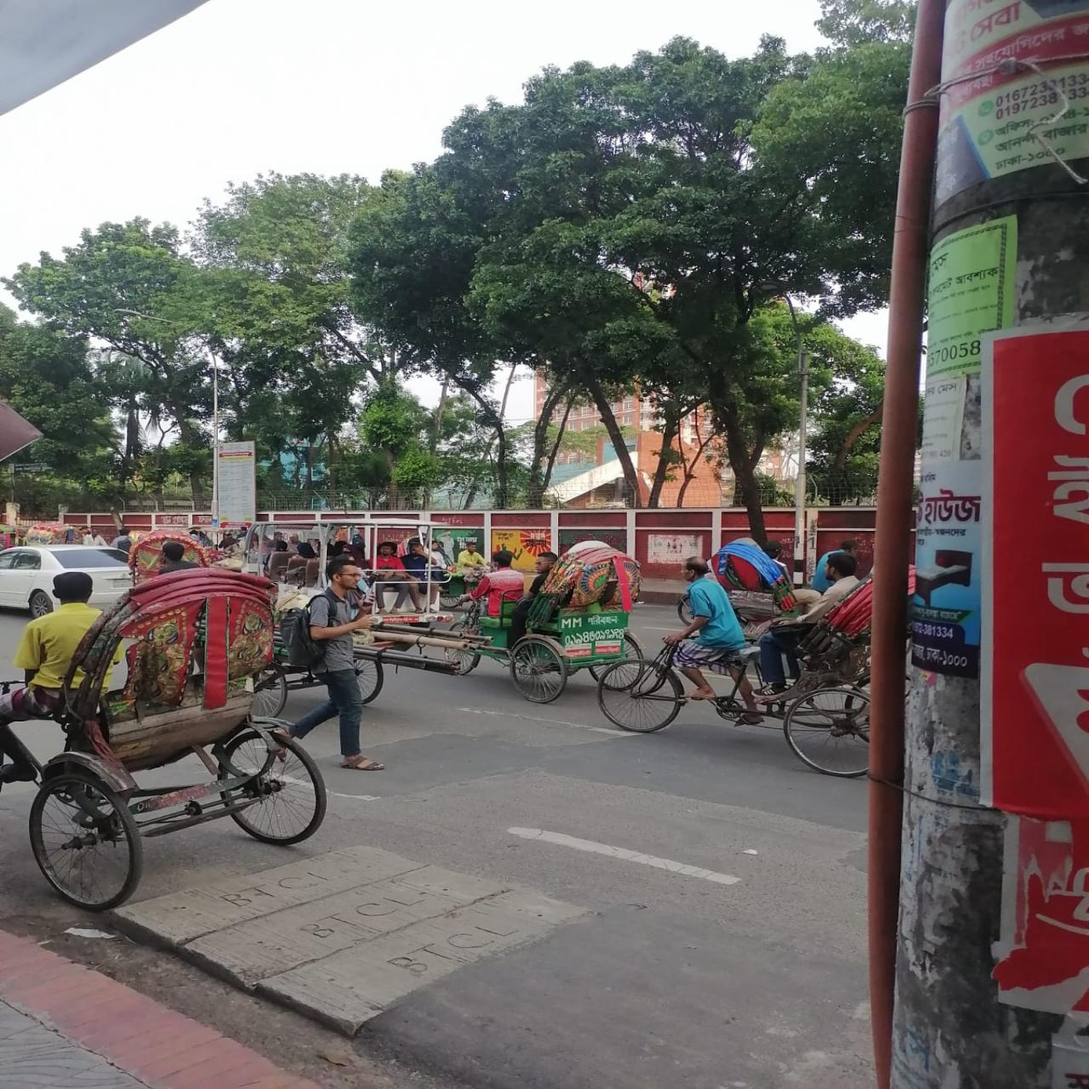person: (288, 561, 382, 779)
